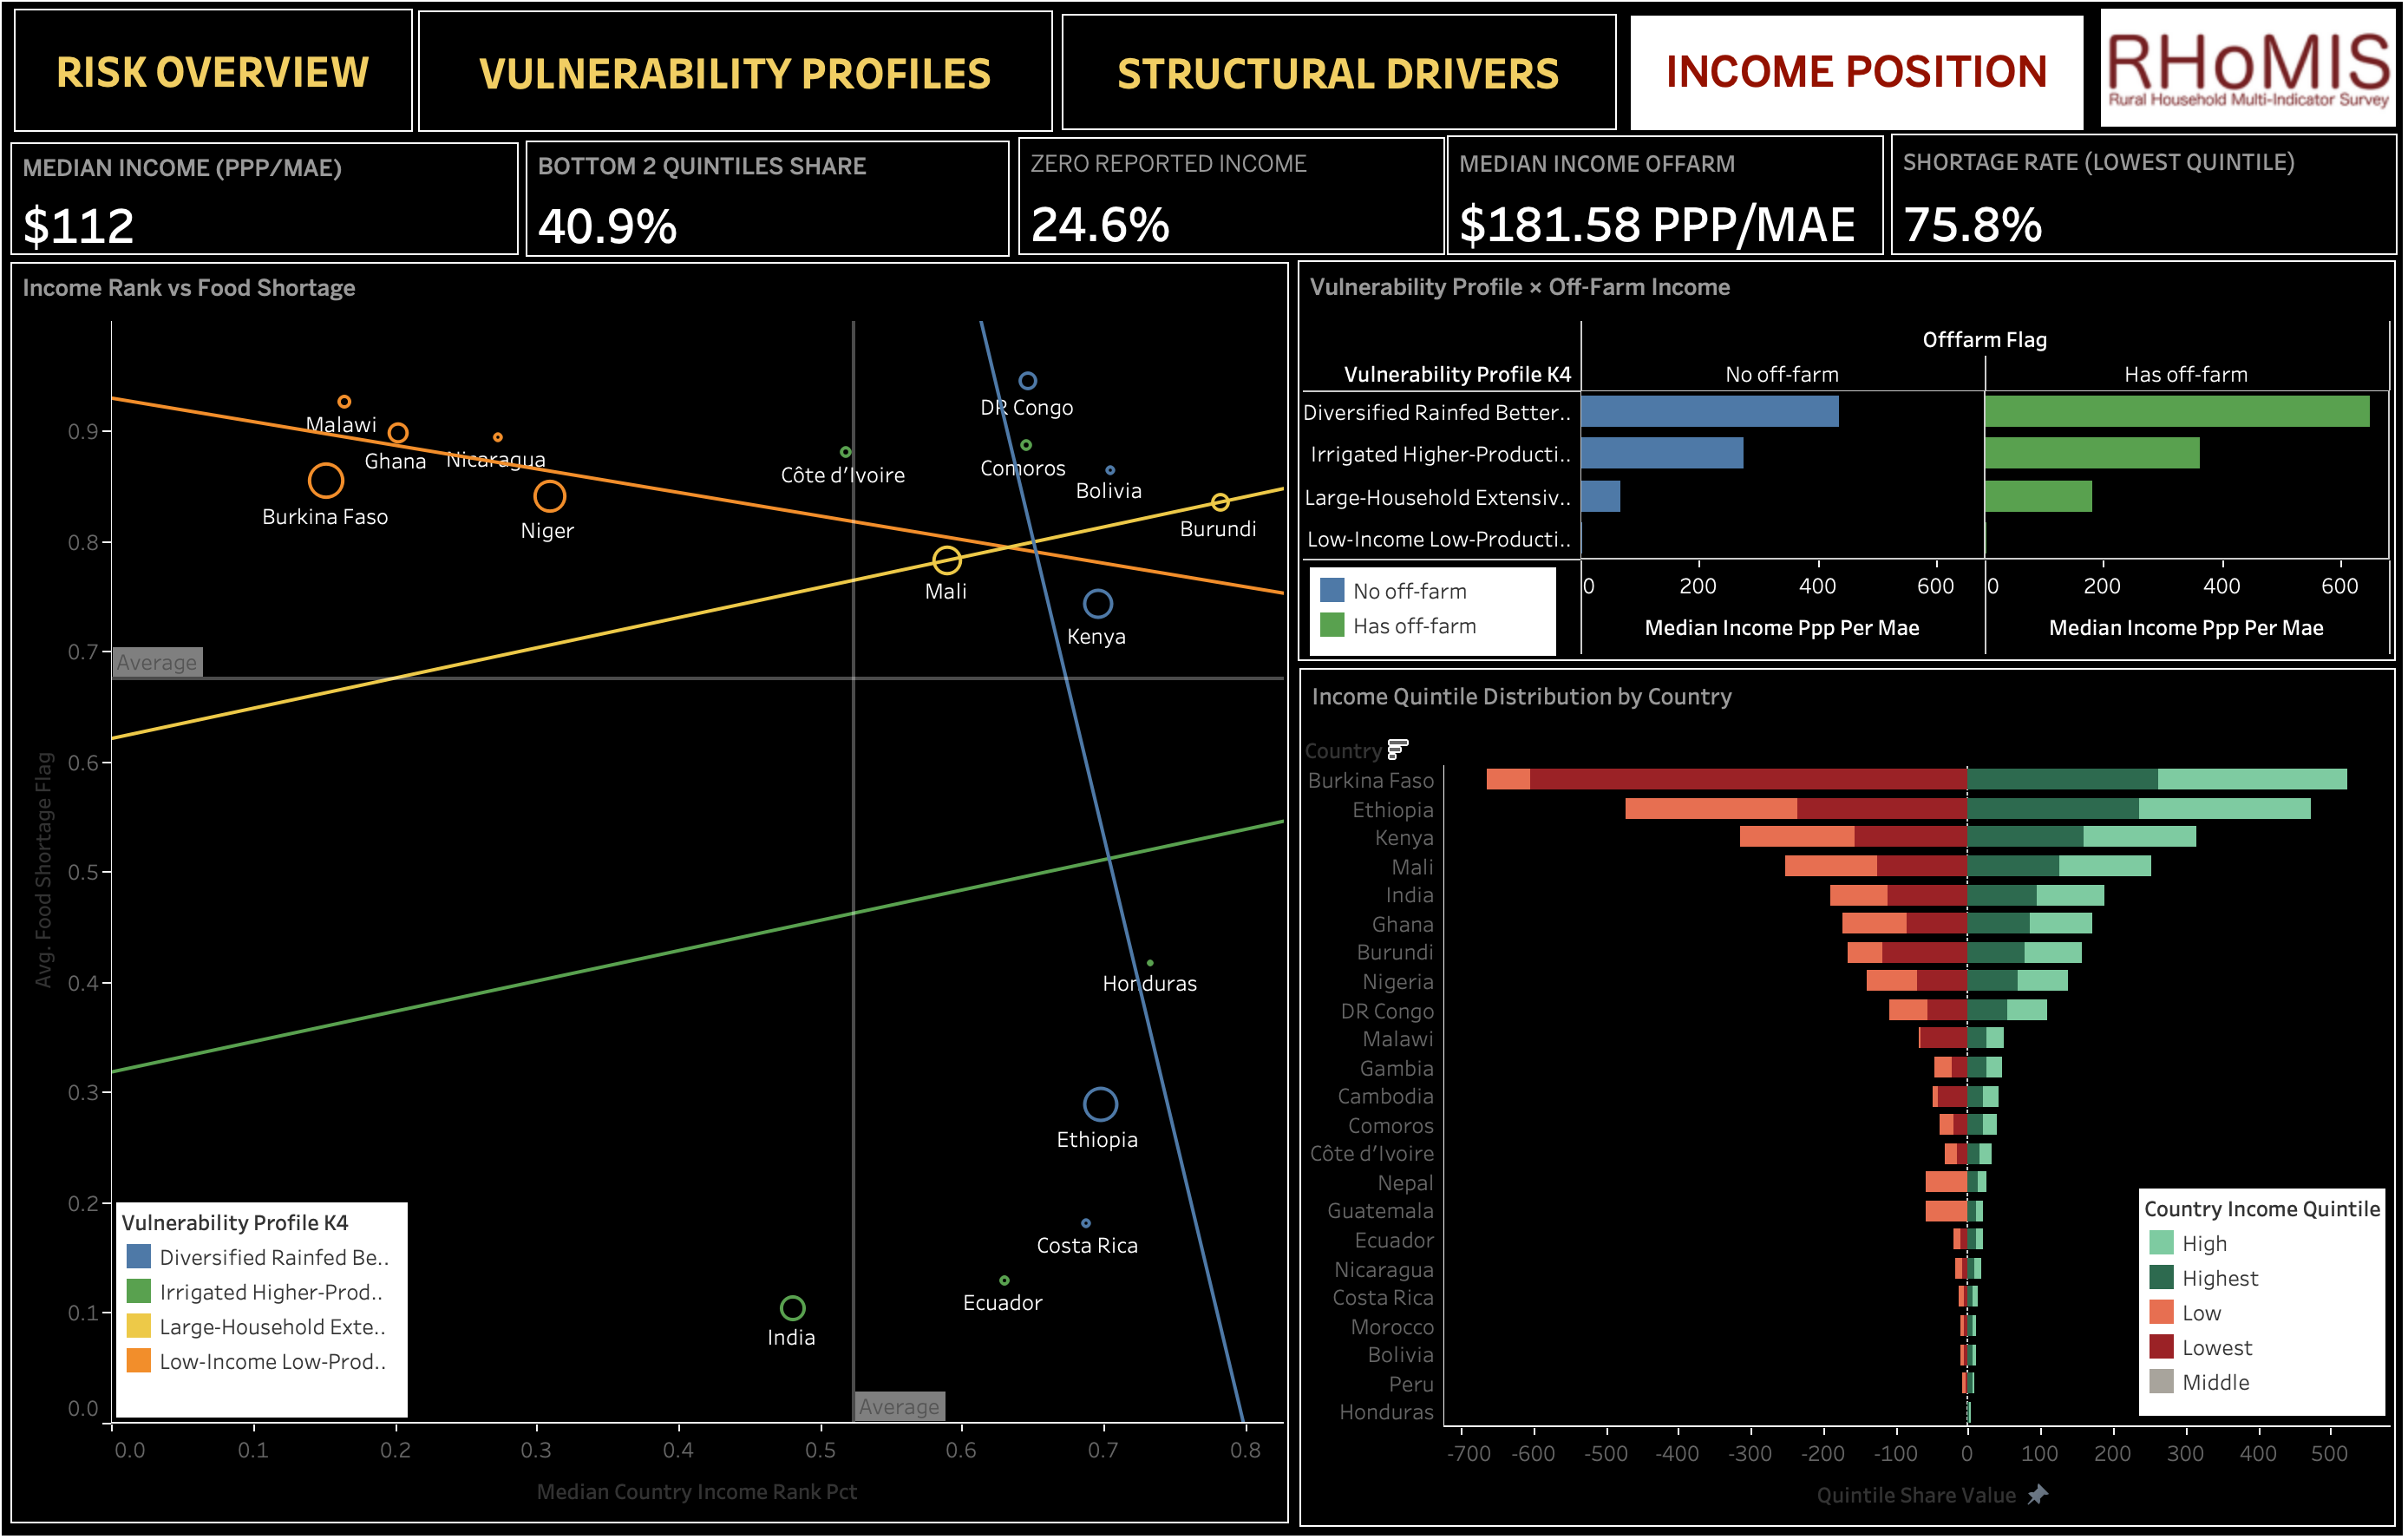

This screenshot's page, from the dashboard's own definition file:
{"tool":"tableau","page":{"name":"INCOME POSITION","canvas":[1000,1000],"units":"permille","ordinal":0},"visuals":[{"type":"blank","box":[5.7,8.9,988.6,982.2]},{"type":"dashboard-object","box":[10.7,13.3,164.3,78.9]},{"type":"image","param":"Image/rhomis-logo.png","box":[870,13.3,122.1,75.6]},{"type":"dashboard-object","box":[177.1,14.4,261.4,77.8]},{"type":"dashboard-object","box":[442.1,16.7,228.6,74.4]},{"type":"text","box":[676.4,17.8,186.4,73.3]},{"type":"worksheet","title":"KPI4-SHORTAGE RATE (LOWEST QUINTILE)","mark":"Automatic","box":[783.6,93.3,208.6,77.8]},{"type":"worksheet","title":"KPI4-MEDIAN INCOME OFFARM","mark":"Automatic","box":[600.7,94.4,180,76.7]},{"type":"worksheet","title":"KPI4-ZERO REPORTED INCOME","mark":"Automatic","box":[424.3,95.6,175.7,75.6]},{"type":"worksheet","title":"KPI4-BOTTOM 2 QUINTILES SHARE","mark":"Automatic","box":[221.4,97.8,199.3,74.4]},{"type":"worksheet","title":"KPI4-MEDIAN INCOME (PPP/MAE)","mark":"Automatic","box":[9.3,98.9,209.3,72.2]},{"type":"worksheet","title":"Vulnerability Profile × Off-Farm Income ","mark":"Bar","rows":["vulnerability_profile_k4"],"cols":["offfarm_flag","income_ppp_per_mae"],"box":[539.3,174.4,452.1,256.7]},{"type":"worksheet","title":"Income Rank vs Food Shortage","mark":"Automatic","rows":["food_shortage_flag"],"cols":["country_income_rank_pct"],"box":[9.3,175.6,526.4,807.8]},{"type":"legend","title":"Vulnerability Profile × Off-Farm Income ","param":"[federated.18g2uha1kfgs62108f3sf1ksln33].[none:offfarm_flag:ok]","box":[544.3,371.1,101.4,56.7]},{"type":"worksheet","title":"Income Quintile Distribution by Country","mark":"Bar","rows":["country"],"box":[540,435.6,451.4,550]},{"type":"legend","title":"Income Quintile Distribution by Country","param":"[federated.18g2uha1kfgs62108f3sf1ksln33].[none:country_income_quintile:nk]","box":[885.7,768.9,101.4,145.6]},{"type":"legend","title":"Income Rank vs Food Shortage","param":"[federated.18g2uha1kfgs62108f3sf1ksln33].[none:vulnerability_profile_k4:nk]","box":[52.9,777.8,120,137.8]}]}

Visuals, with their boxes on the dashboard's canvas, which has no fixed pixel size, in thousandths of its width and height (x1, y1, x2, y2). These are canvas units, not pixel positions in the 2408x1539 screenshot, which may show the page scaled, cropped or inside an application window:
blank: select_region(6, 9, 994, 991)
dashboard-object: select_region(11, 13, 175, 92)
image: select_region(870, 13, 992, 89)
dashboard-object: select_region(177, 14, 438, 92)
dashboard-object: select_region(442, 17, 671, 91)
text: select_region(676, 18, 863, 91)
"KPI4-SHORTAGE RATE (LOWEST QUINTILE)" worksheet: select_region(784, 93, 992, 171)
"KPI4-MEDIAN INCOME OFFARM" worksheet: select_region(601, 94, 781, 171)
"KPI4-ZERO REPORTED INCOME" worksheet: select_region(424, 96, 600, 171)
"KPI4-BOTTOM 2 QUINTILES SHARE" worksheet: select_region(221, 98, 421, 172)
"KPI4-MEDIAN INCOME (PPP/MAE)" worksheet: select_region(9, 99, 219, 171)
"Vulnerability Profile × Off-Farm Income " worksheet (Bar marks): select_region(539, 174, 991, 431)
"Income Rank vs Food Shortage" worksheet: select_region(9, 176, 536, 983)
"Vulnerability Profile × Off-Farm Income " legend: select_region(544, 371, 646, 428)
"Income Quintile Distribution by Country" worksheet (Bar marks): select_region(540, 436, 991, 986)
"Income Quintile Distribution by Country" legend: select_region(886, 769, 987, 914)
"Income Rank vs Food Shortage" legend: select_region(53, 778, 173, 916)
